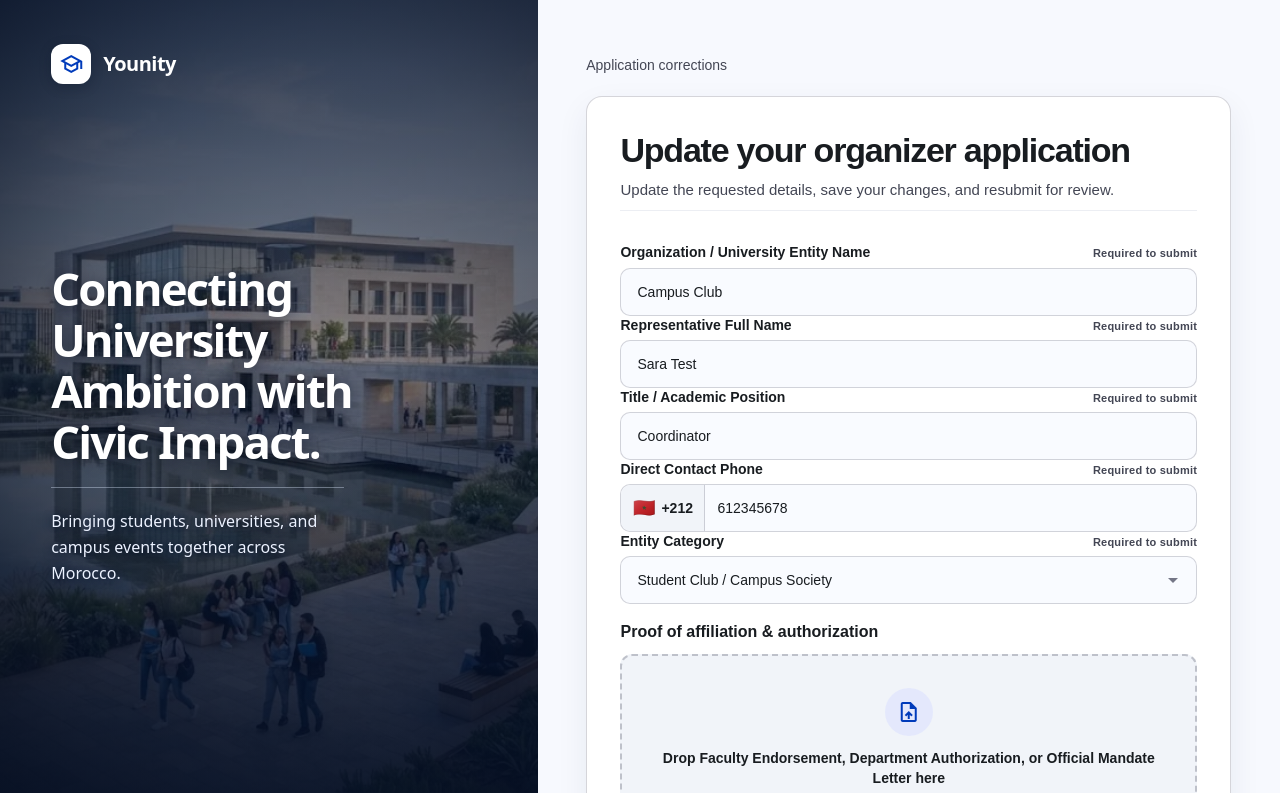
Test: organizer draft frontend integration › does not confirm saving when a successful response is malformed or has no saved draft
Replace the text in the field labelled "Organization / University Entity Name" with "Unsaved Club". click: (909, 292)
box: [620,268,1197,316]
(page scrolled)
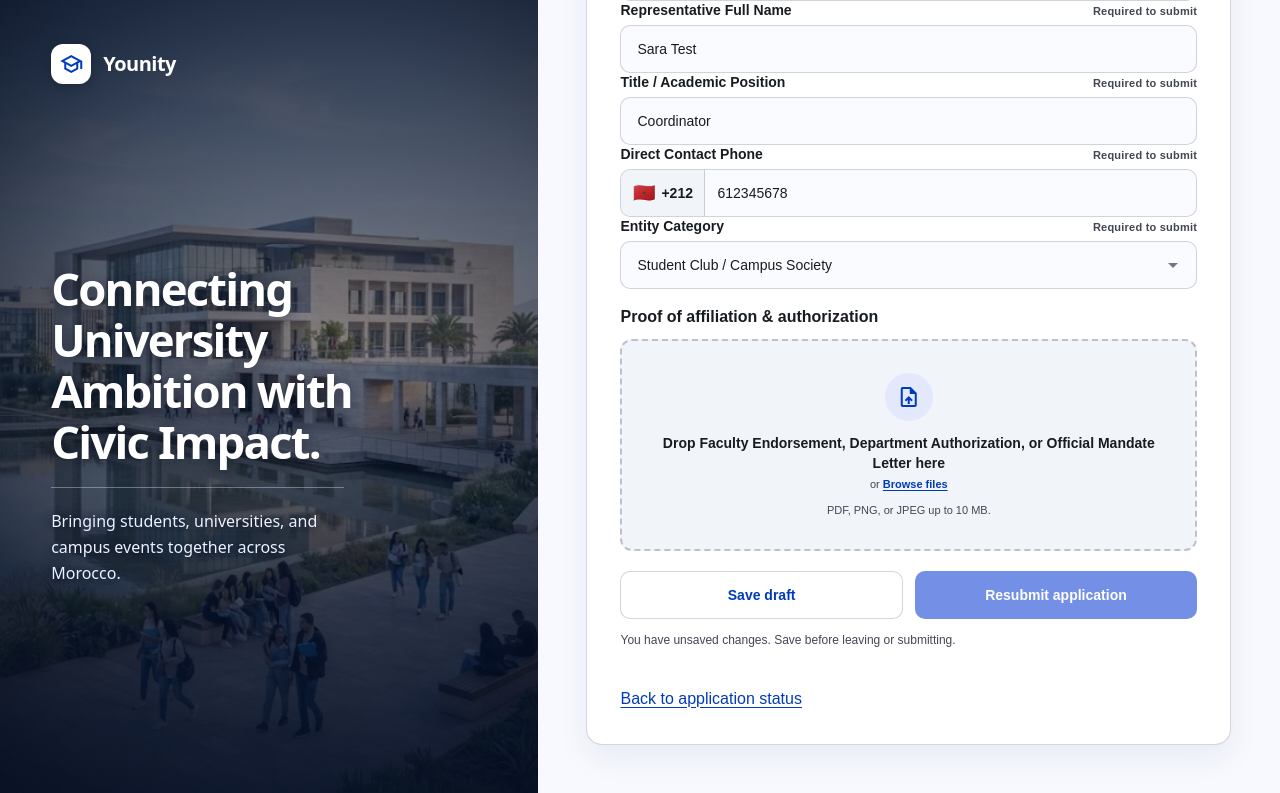
Click the button "Save draft". click: (762, 595)
box: [620,571,903,619]
(page scrolled)
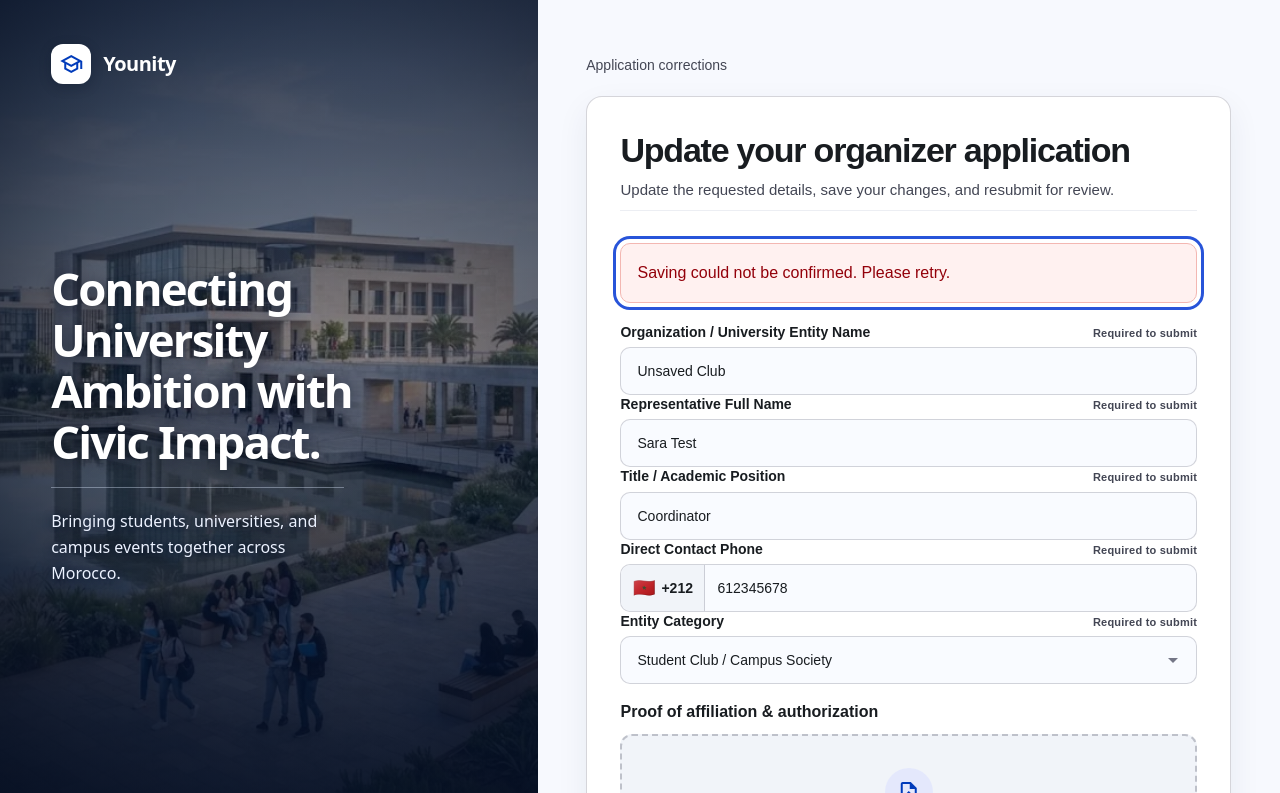
Check: the message "Saving could not be confirmed. Please retry." is shown, box [620,243,1197,303]
